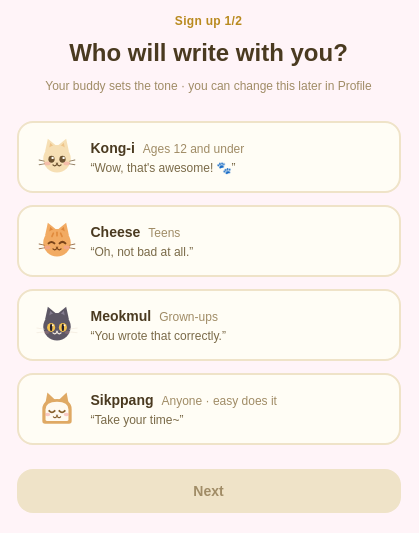
it: 1/2 짝꿍 고르기 › 고르면 다음 버튼이 열린다
Click the button with aria-label "Kong-i, Ages 12 and under. Wow, that's awesome! 🐾" at (208, 156), box [16,120,400,192]
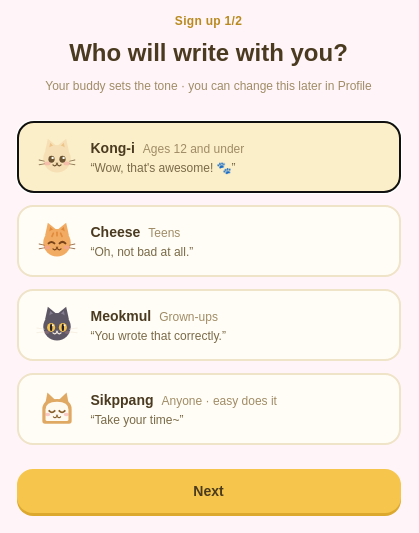
Now the button "Next" is enabled, box [16,468,400,512]
